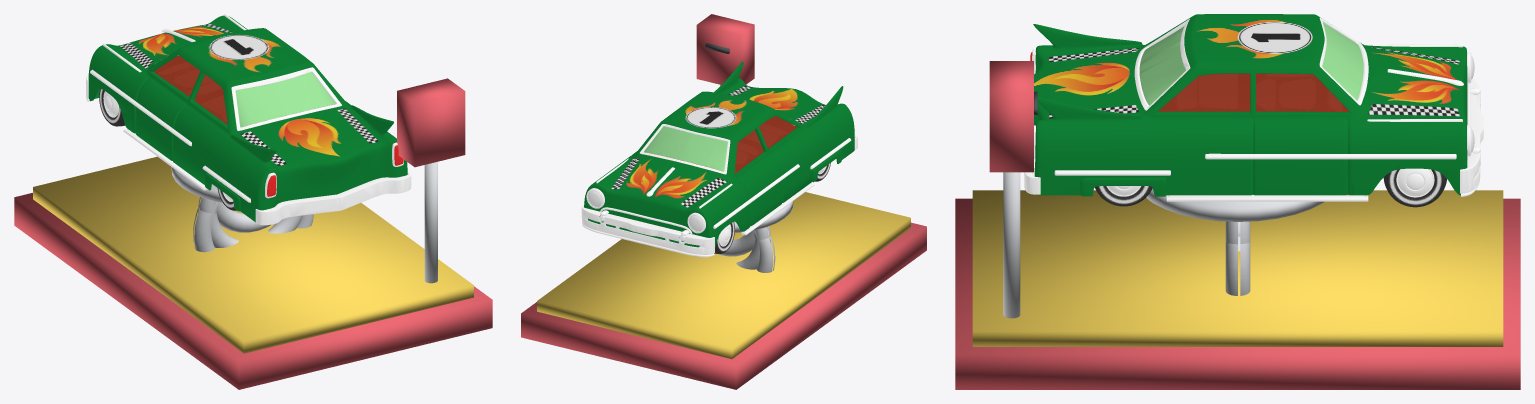
The model's file is yaoyao.glb.
The picture shows the model from 3 angles, left to right: view 1: azimuth 30°, elevation 25°; view 2: azimuth 150°, elevation 25°; view 3: azimuth 270°, elevation 25°; orthographic projection. The views are drawn at different scales.
Parts seen in each view (by area): view 1: geometry_0, ToyCar, geometry_2, Glass; view 2: geometry_0, ToyCar, Glass, geometry_2; view 3: geometry_0, ToyCar, geometry_2, Glass.
Boxes of the visible parts, box(x1,y1,x2,y2) form: geometry_0: box(14, 78, 492, 389); ToyCar: box(86, 14, 411, 225); geometry_2: box(171, 161, 437, 283); Glass: box(235, 72, 335, 127); geometry_0: box(521, 14, 926, 389); ToyCar: box(581, 61, 857, 256); Glass: box(644, 126, 727, 171); geometry_2: box(696, 84, 793, 272); geometry_0: box(955, 61, 1520, 389); ToyCar: box(1024, 14, 1483, 207); geometry_2: box(1003, 172, 1324, 318); Glass: box(1139, 22, 1363, 105).
Size of the model in its own units: 2.35 by 2.1 by 3.6.
5 materials, 5 textured.
